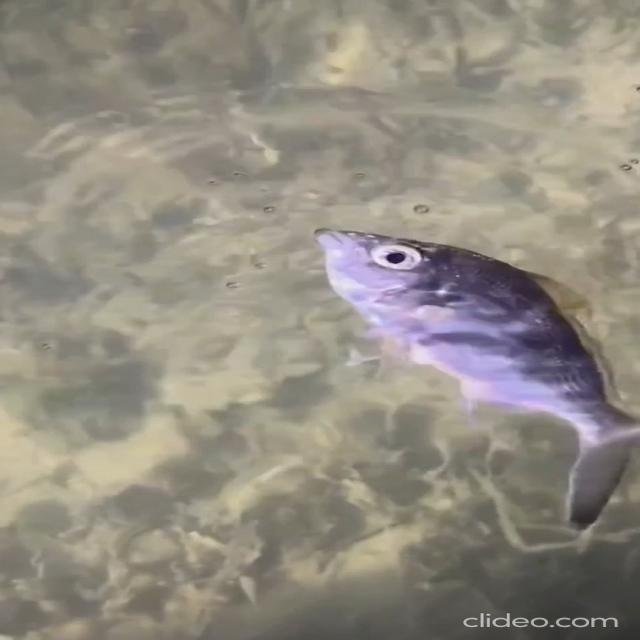fish: (303, 220, 640, 536)
